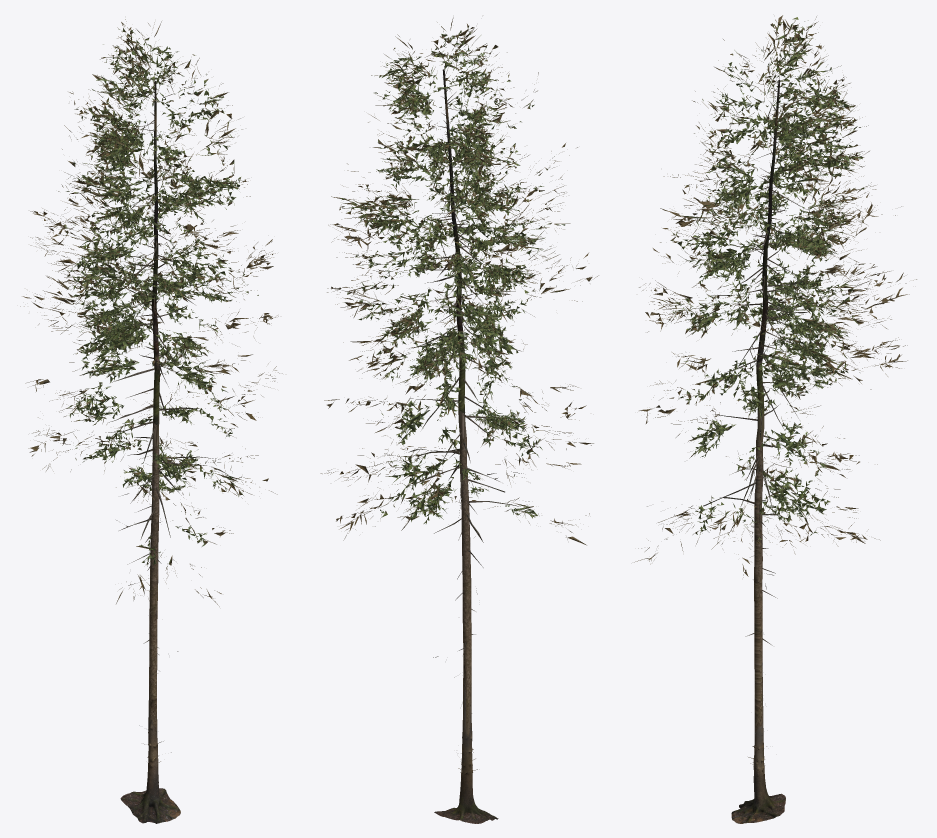
Rendered from fir_tree_01-a.gltf.
The picture shows the model from 3 angles, left to right: view 1: azimuth 30°, elevation 25°; view 2: azimuth 150°, elevation 25°; view 3: azimuth 270°, elevation 25°; orthographic projection. The views are drawn at different scales.
Parts seen in each view (by area): view 1: fir_tree_01_a_LOD0; view 2: fir_tree_01_a_LOD0; view 3: fir_tree_01_a_LOD0.
Part boxes in pixels (bbox=[...]): fir_tree_01_a_LOD0: bbox=[20, 19, 282, 823]; fir_tree_01_a_LOD0: bbox=[320, 17, 598, 823]; fir_tree_01_a_LOD0: bbox=[634, 15, 916, 823].
Bounding box in the file's own units: 6.4 × 18.85 × 6.3.
Materials: 4 (4 with a texture image).
